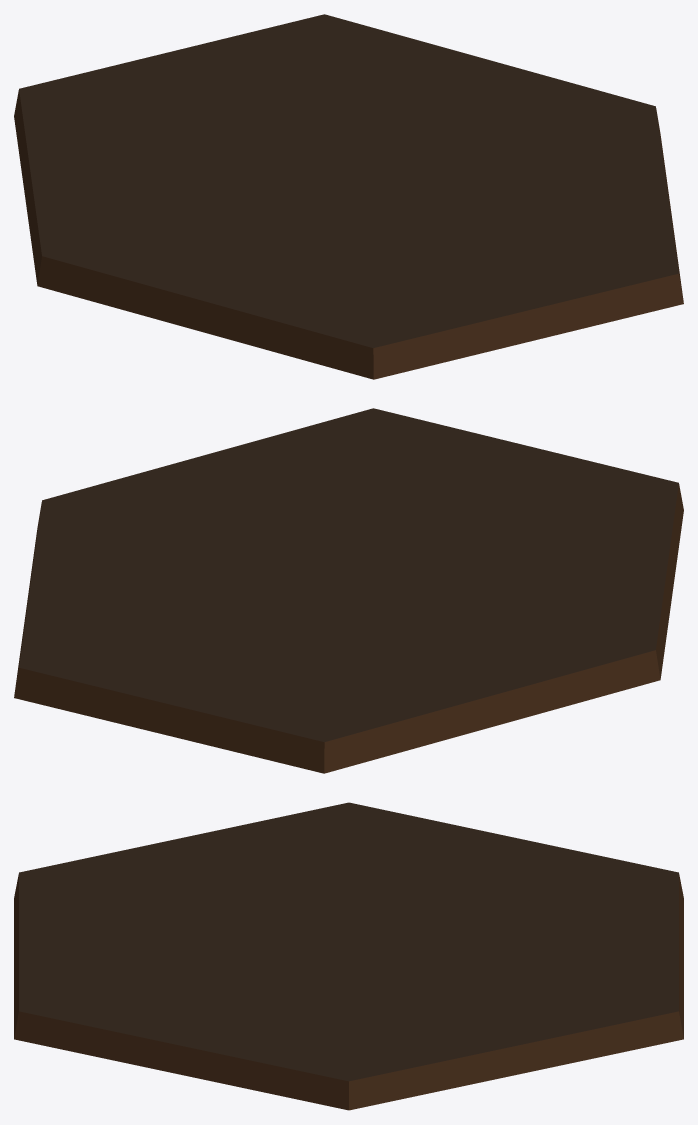
The model's file is soil_wet.glb.
The picture shows the model from 3 angles, top to bottom: view 1: azimuth 30°, elevation 25°; view 2: azimuth 150°, elevation 25°; view 3: azimuth 270°, elevation 25°; orthographic projection. The views are drawn at different scales.
Parts seen in each view (by area): view 1: soil_wet; view 2: soil_wet; view 3: soil_wet.
Boxes of the visible parts, bbox=[...] form: soil_wet: bbox=[14, 14, 683, 379]; soil_wet: bbox=[14, 408, 683, 773]; soil_wet: bbox=[14, 802, 683, 1110].
Bounding box in the file's own units: 0.45 × 0.02 × 0.45.
